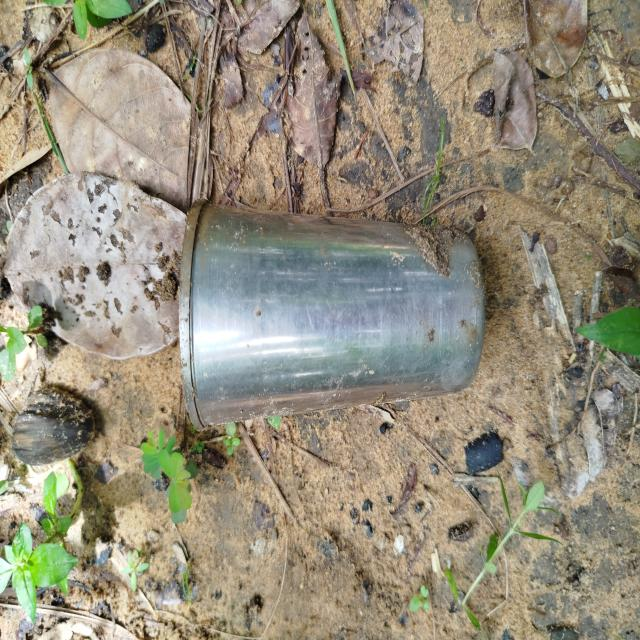metal: (169, 189, 494, 449)
